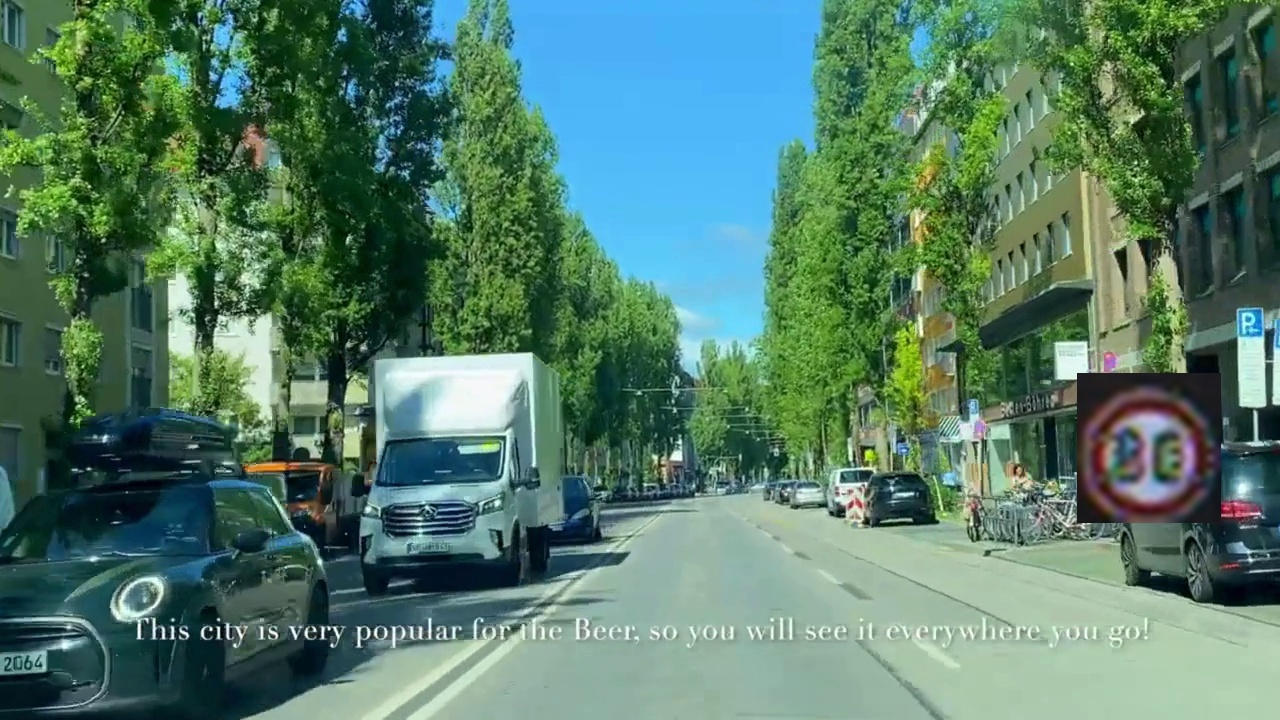Speed 80: (1077, 373, 1221, 523)
